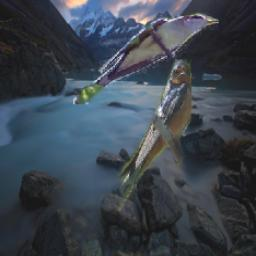Cuckoo: (74, 14, 220, 105)
Swallow: (117, 60, 193, 212)
